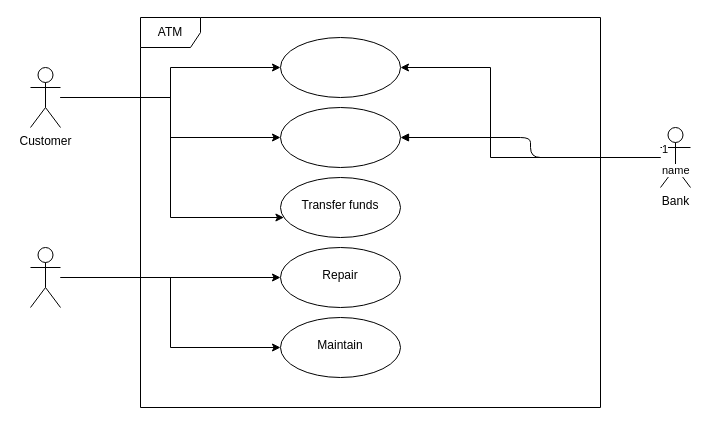
This 708x425 diagram has some shape labels left out. Here are the shapes that lost their labels. From the top down, the centre of each, then its label:
At (x=340, y=67): "Withdraw Cash".
At (x=340, y=137): "Check balance".
At (x=45, y=277): "Technician".
